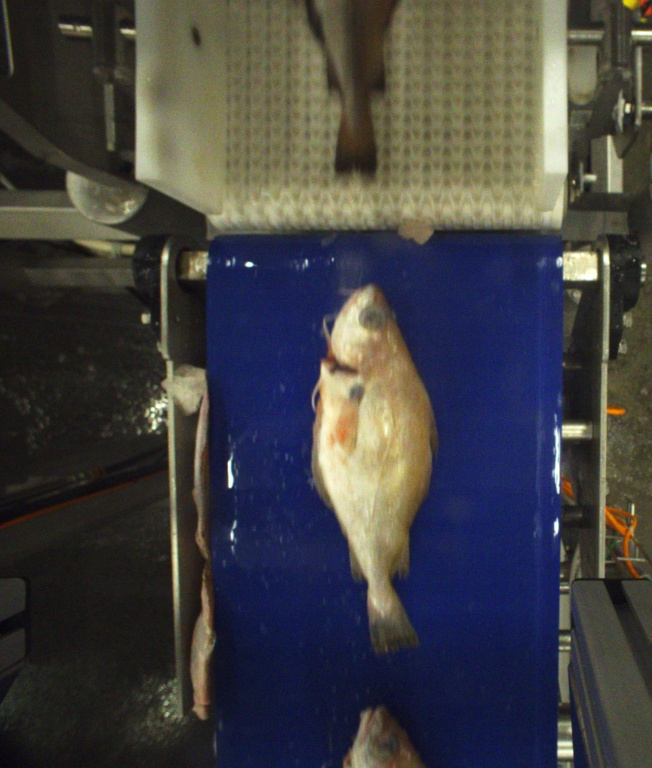BIB: (342, 706, 429, 768)
